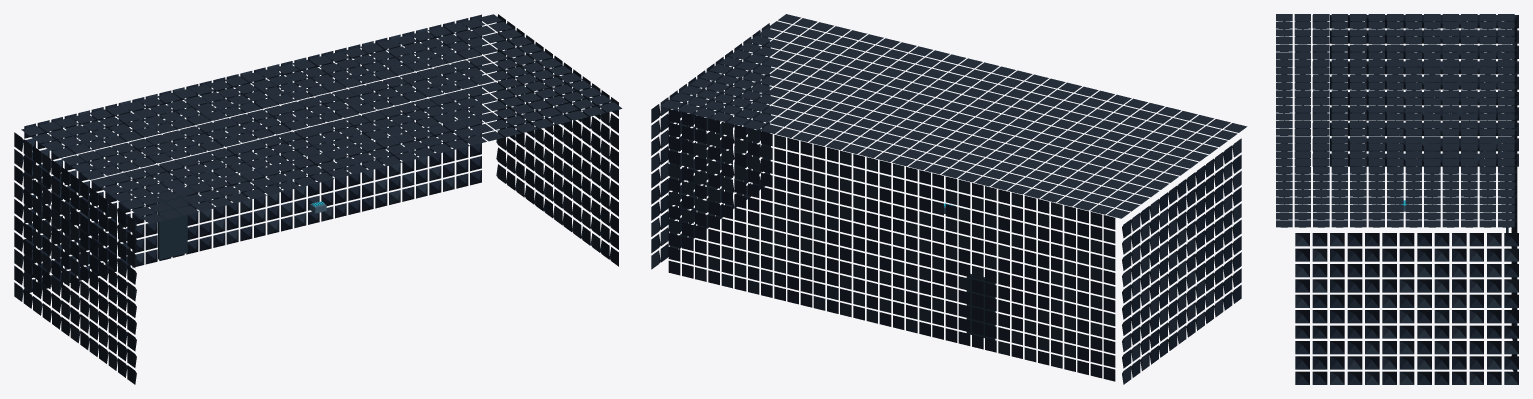
Rendered from 02_L82_RFAbsorberPyramidWallSet.fbx.
3 views of the same model, side by side, from view 1: azimuth 30°, elevation 25°; view 2: azimuth 150°, elevation 25°; view 3: azimuth 270°, elevation 25° (orthographic). The views are drawn at different scales.
Parts seen in each view (by area): view 1: RFAbsorberPyramidWallSet; view 2: RFAbsorberPyramidWallSet; view 3: RFAbsorberPyramidWallSet.
Boxes of the visible parts, x1=… form: RFAbsorberPyramidWallSet: x1=14, y1=14, x2=622, y2=384; RFAbsorberPyramidWallSet: x1=651, y1=14, x2=1247, y2=384; RFAbsorberPyramidWallSet: x1=1276, y1=14, x2=1518, y2=384.
Bounding box in the file's own units: 2400 × 798 × 1130.
